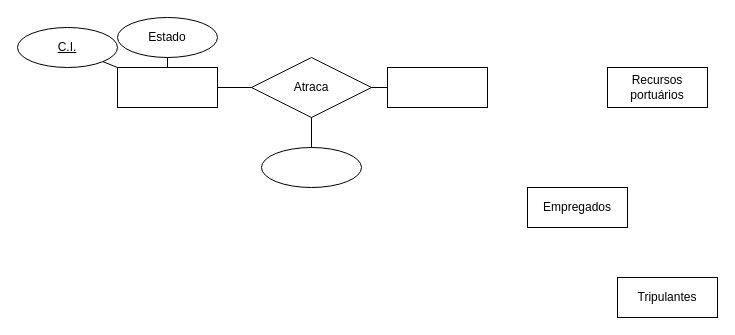
Some shapes in this 735 by 335 pixel diagram are drawn without their labels. Here are the shapes that lost their labels. From the top down, the box of each, then its label:
(116, 66, 218, 108): Berço de Atração
(386, 66, 488, 108): Embarcação
(260, 146, 362, 188): B/L liberada
